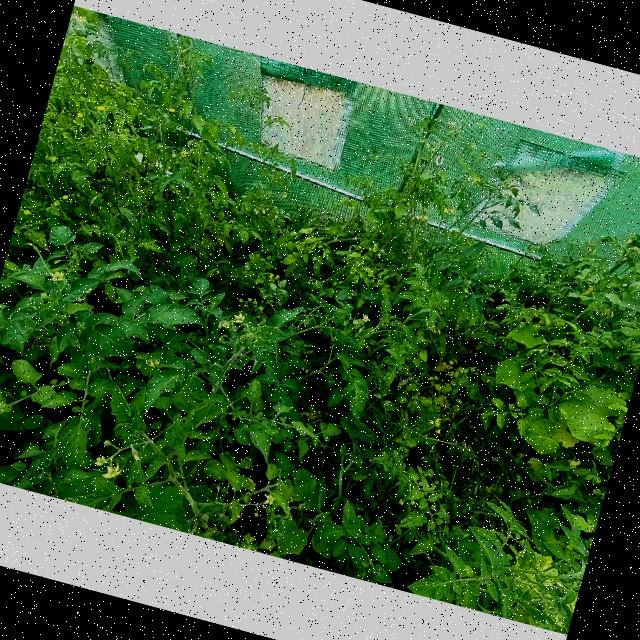Flowers: (104, 462, 124, 483), (48, 269, 66, 284), (230, 310, 246, 325), (260, 493, 274, 508), (93, 454, 107, 468), (144, 356, 160, 368), (429, 324, 442, 336), (252, 206, 266, 217), (218, 319, 230, 330), (44, 152, 56, 163), (18, 207, 32, 216), (178, 147, 188, 159), (396, 496, 406, 506), (368, 242, 378, 252), (74, 15, 85, 24), (444, 206, 456, 214), (50, 199, 60, 208), (360, 313, 370, 322), (96, 103, 106, 111), (418, 214, 428, 222), (434, 418, 442, 427), (472, 177, 482, 184), (408, 499, 416, 507), (85, 286, 93, 294), (169, 150, 177, 158), (167, 107, 176, 114), (75, 111, 83, 118), (625, 238, 633, 244), (630, 245, 638, 251), (180, 62, 188, 68), (427, 419, 434, 425), (62, 193, 68, 200), (434, 428, 440, 434), (76, 296, 82, 302), (268, 272, 274, 278), (274, 274, 280, 280), (352, 318, 358, 324), (280, 192, 286, 198), (252, 300, 257, 305), (353, 236, 358, 241), (274, 212, 278, 218), (376, 252, 380, 258), (99, 84, 104, 88), (237, 298, 242, 302), (462, 288, 467, 292), (246, 298, 250, 302), (258, 306, 262, 310), (182, 100, 184, 102)
